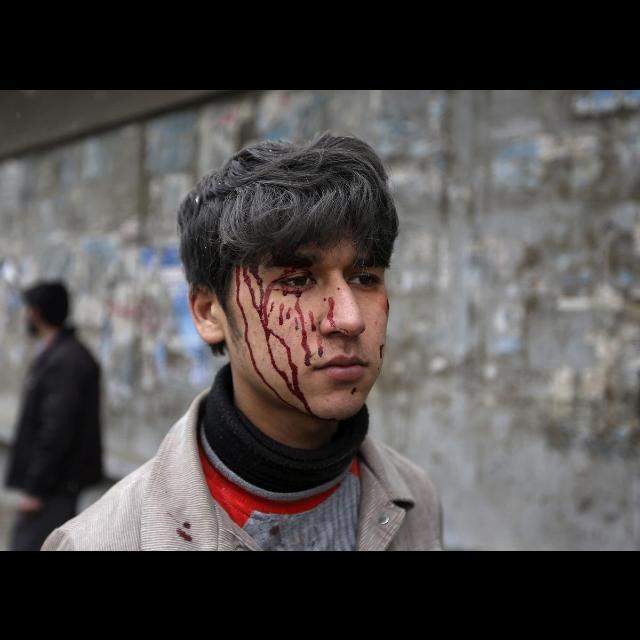blood: (228, 264, 351, 418)
